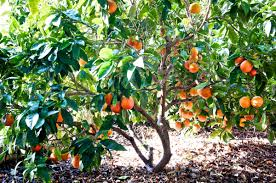orange: (187, 2, 203, 16), (121, 95, 135, 109), (198, 84, 212, 98), (251, 94, 264, 109), (104, 1, 118, 14), (239, 96, 252, 109), (239, 59, 252, 72), (111, 100, 122, 113), (196, 112, 208, 122), (188, 61, 198, 73)
